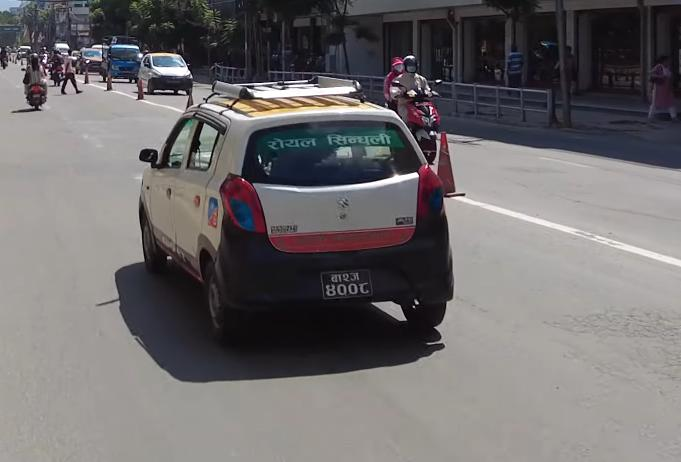scooter: (385, 76, 443, 164), (17, 67, 52, 110)
taxi: (132, 75, 459, 343), (137, 51, 196, 97)
